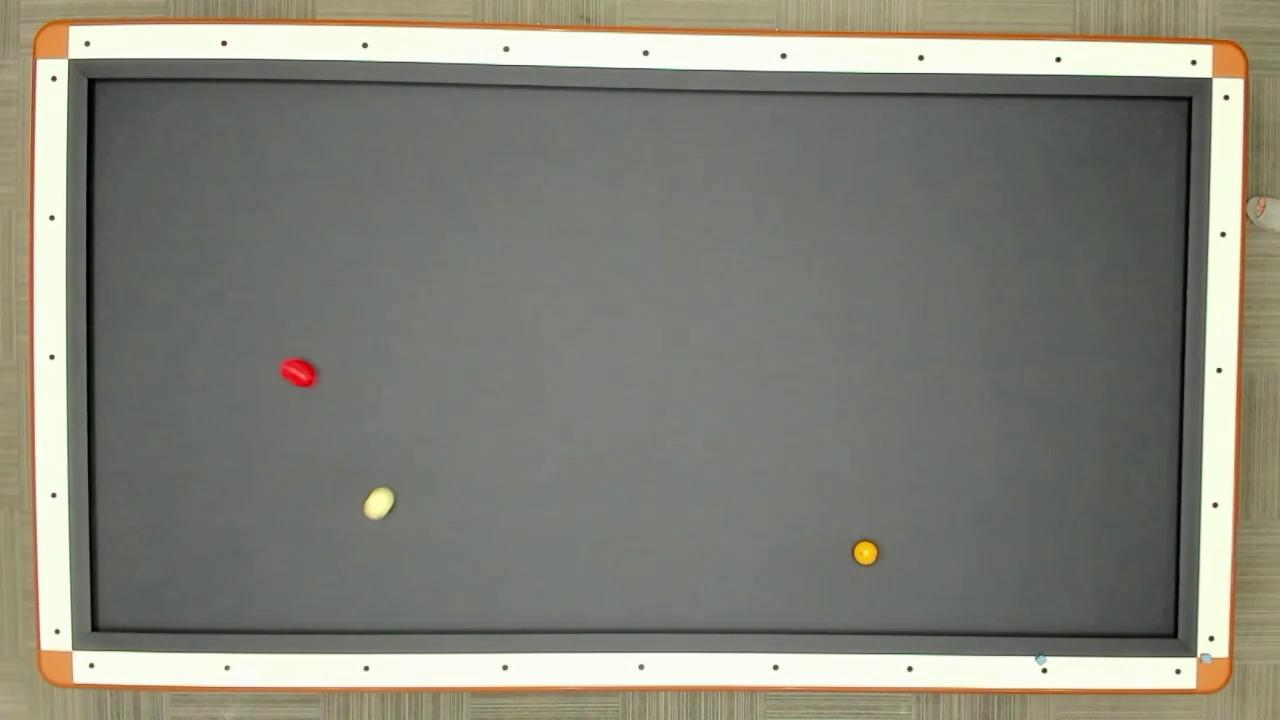Red: (278, 356, 320, 390)
White: (360, 484, 398, 522)
Yellow: (852, 538, 878, 568)
